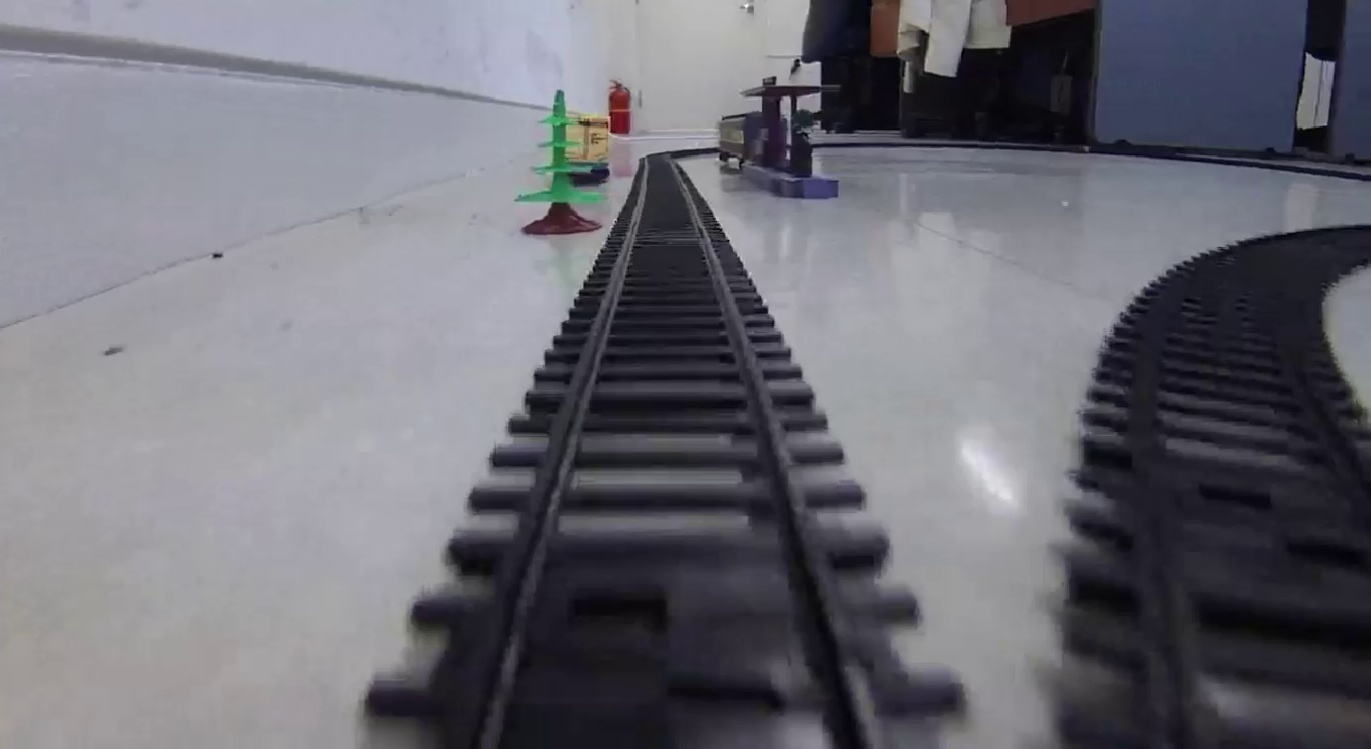tree: (509, 89, 602, 233)
